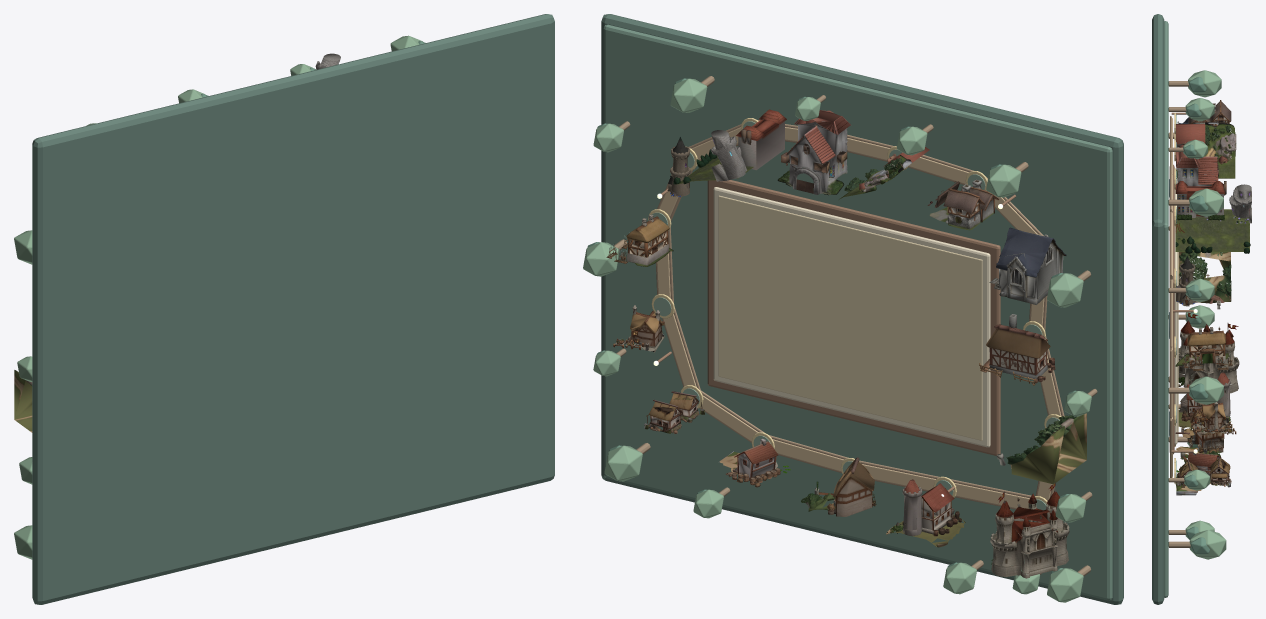
The model's file is guildholm_3d_board.glb.
3 views of the same model, side by side, from view 1: azimuth 30°, elevation 25°; view 2: azimuth 150°, elevation 25°; view 3: azimuth 270°, elevation 25° (orthographic). The views are drawn at different scales.
Parts seen in each view (by area): view 1: board-edge, tripo_node_45ec4313-4555-40a4-b1ed-0d3103c0e1d1; view 2: board-ground, center-inset, board-edge, center-wood-frame, center-parchment, tripo_node_478ec64d-ec72-4a8d-9347-4765f69bdc1b, tripo_node_5e40d1fd-16a4-4e31-b26f-e01164ac0ca5, tripo_node_2df10520-dac4-4aa5-b0dd-2b88a27ddd1b, tripo_node_9063846b-cb63-44dd-9f75-276d605f859e, tripo_node_45ec4313-4555-40a4-b1ed-0d3103c0e1d1, tripo_node_e2bece4e-cc38-41d0-979c-e4382ce341d9, tripo_node_d01467dc-a451-4de2-9896-244d84f1e524 (+21 smaller); view 3: board-edge, tripo_node_2df10520-dac4-4aa5-b0dd-2b88a27ddd1b, board-ground, tripo_node_23d5d464-27a8-4d05-9d98-b19c19e9d2da, tripo_node_478ec64d-ec72-4a8d-9347-4765f69bdc1b, tripo_node_25f4a727-e939-4ab6-a37c-738dee8ad415, tripo_node_45ec4313-4555-40a4-b1ed-0d3103c0e1d1, tripo_node_5e40d1fd-16a4-4e31-b26f-e01164ac0ca5, tripo_node_74f15120-7644-4d3b-a07f-f62a6a3f1a6e, tripo_node_89326304-a9ee-427c-9d4a-46bc830aac0d, tripo_node_d01467dc-a451-4de2-9896-244d84f1e524, center-wood-frame (+22 smaller).
Boxes of the visible parts, bbox=[...] form: board-edge: bbox=[32, 14, 554, 604]; tripo_node_45ec4313-4555-40a4-b1ed-0d3103c0e1d1: bbox=[14, 370, 32, 432]; board-ground: bbox=[603, 24, 1112, 600]; center-inset: bbox=[718, 195, 982, 440]; board-edge: bbox=[601, 14, 1123, 604]; center-wood-frame: bbox=[707, 180, 1000, 455]; center-parchment: bbox=[713, 187, 990, 447]; tripo_node_478ec64d-ec72-4a8d-9347-4765f69bdc1b: bbox=[990, 483, 1069, 578]; tripo_node_5e40d1fd-16a4-4e31-b26f-e01164ac0ca5: bbox=[777, 110, 851, 195]; tripo_node_2df10520-dac4-4aa5-b0dd-2b88a27ddd1b: bbox=[673, 109, 786, 184]; tripo_node_9063846b-cb63-44dd-9f75-276d605f859e: bbox=[989, 227, 1066, 304]; tripo_node_45ec4313-4555-40a4-b1ed-0d3103c0e1d1: bbox=[996, 413, 1086, 484]; tripo_node_e2bece4e-cc38-41d0-979c-e4382ce341d9: bbox=[979, 313, 1055, 385]; tripo_node_d01467dc-a451-4de2-9896-244d84f1e524: bbox=[886, 479, 965, 547]; board-edge: bbox=[1152, 14, 1164, 604]; tripo_node_2df10520-dac4-4aa5-b0dd-2b88a27ddd1b: bbox=[1175, 181, 1251, 253]; board-ground: bbox=[1164, 21, 1168, 597]; tripo_node_23d5d464-27a8-4d05-9d98-b19c19e9d2da: bbox=[1176, 122, 1236, 178]; tripo_node_478ec64d-ec72-4a8d-9347-4765f69bdc1b: bbox=[1178, 313, 1239, 401]; tripo_node_25f4a727-e939-4ab6-a37c-738dee8ad415: bbox=[1175, 327, 1232, 370]; tripo_node_45ec4313-4555-40a4-b1ed-0d3103c0e1d1: bbox=[1178, 252, 1231, 309]; tripo_node_5e40d1fd-16a4-4e31-b26f-e01164ac0ca5: bbox=[1175, 145, 1218, 186]; tripo_node_74f15120-7644-4d3b-a07f-f62a6a3f1a6e: bbox=[1175, 402, 1236, 438]; tripo_node_89326304-a9ee-427c-9d4a-46bc830aac0d: bbox=[1176, 406, 1224, 462]; tripo_node_d01467dc-a451-4de2-9896-244d84f1e524: bbox=[1178, 372, 1231, 428]; center-wood-frame: bbox=[1169, 164, 1174, 454].
Bounding box in the file's own units: 29.2 × 25.03 × 5.87.
30 materials, 15 textured.
